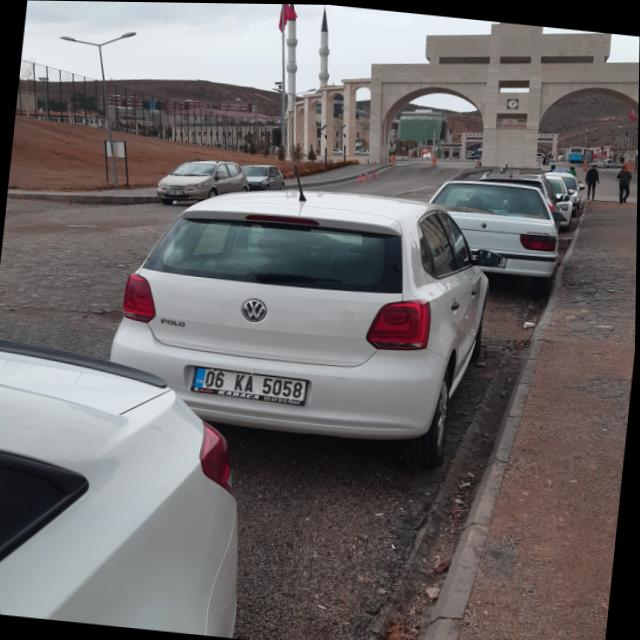license_plate: (195, 366, 307, 400)
